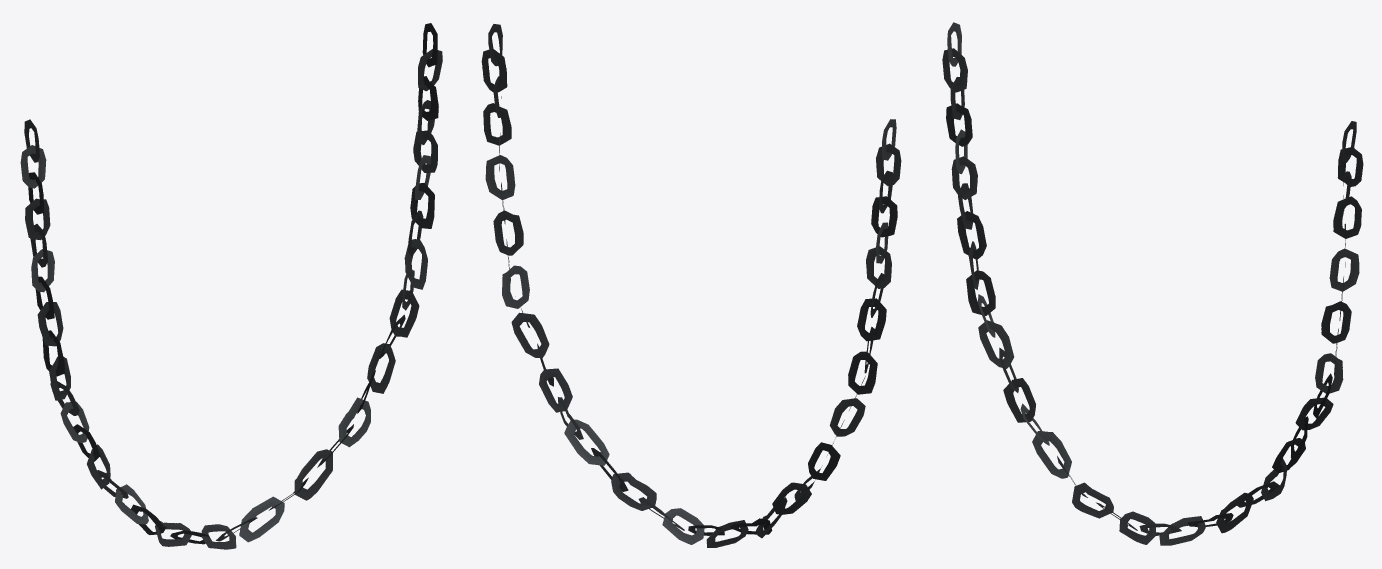
Rendered from SM_Prop_Chain_03b.fbx.
3 renders of one model, left to right at view 1: azimuth 30°, elevation 25°; view 2: azimuth 150°, elevation 25°; view 3: azimuth 330°, elevation 25°, orthographic.
Parts seen in each view (by area): view 1: SM_Prop_Chain_03b; view 2: SM_Prop_Chain_03b; view 3: SM_Prop_Chain_03b.
Boxes of the visible parts, x1=… form: SM_Prop_Chain_03b: x1=20, y1=23, x2=442, y2=549; SM_Prop_Chain_03b: x1=481, y1=24, x2=901, y2=547; SM_Prop_Chain_03b: x1=942, y1=22, x2=1363, y2=545.
Bounding box in the file's own units: 136 × 144 × 10.48.
